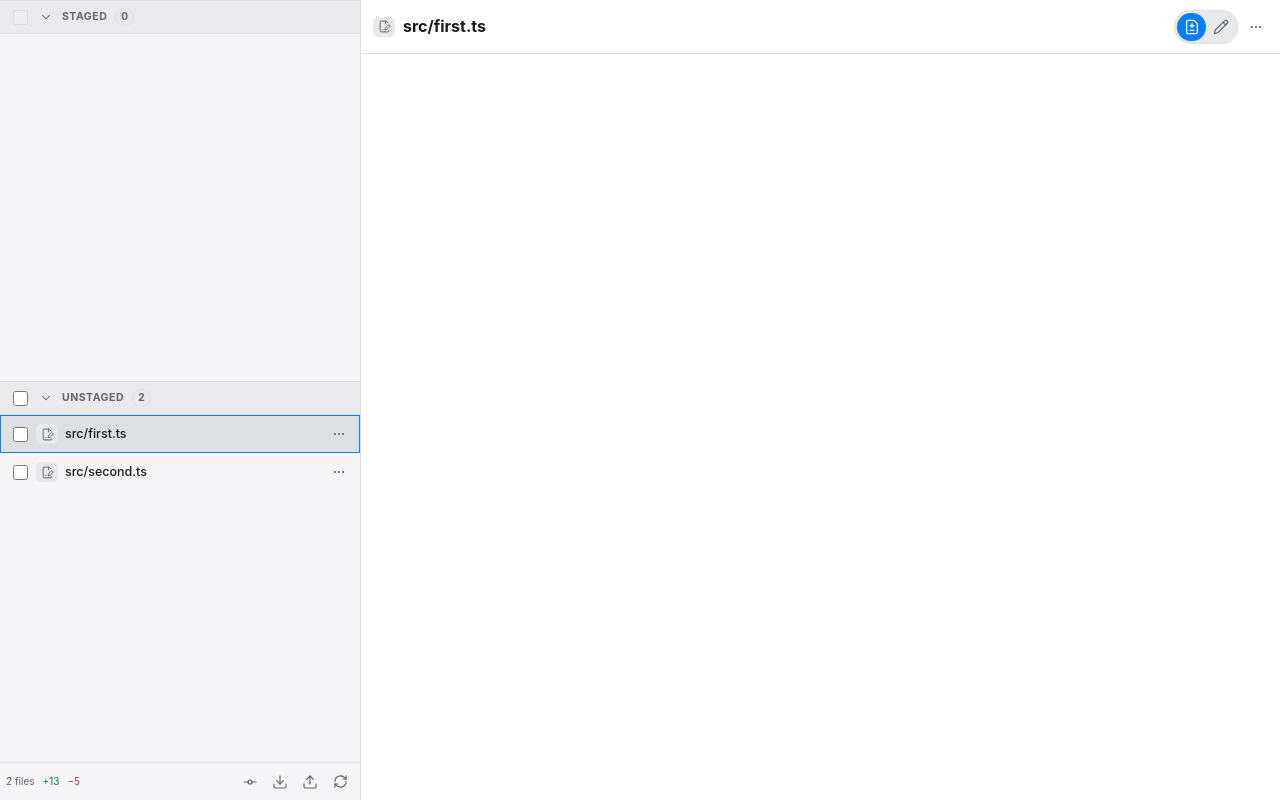
DiffView diff lifecycle › keeps the change summary below every file list format and shows the selection count
Check: the text "+13" is shown, box x1=43 y1=774 x2=60 y2=789
Check: the text "−5" is shown, box x1=68 y1=774 x2=80 y2=789
Click the button with aria-label "Modified src/second.ts" at (106, 471), box x1=34 y1=453 x2=326 y2=491
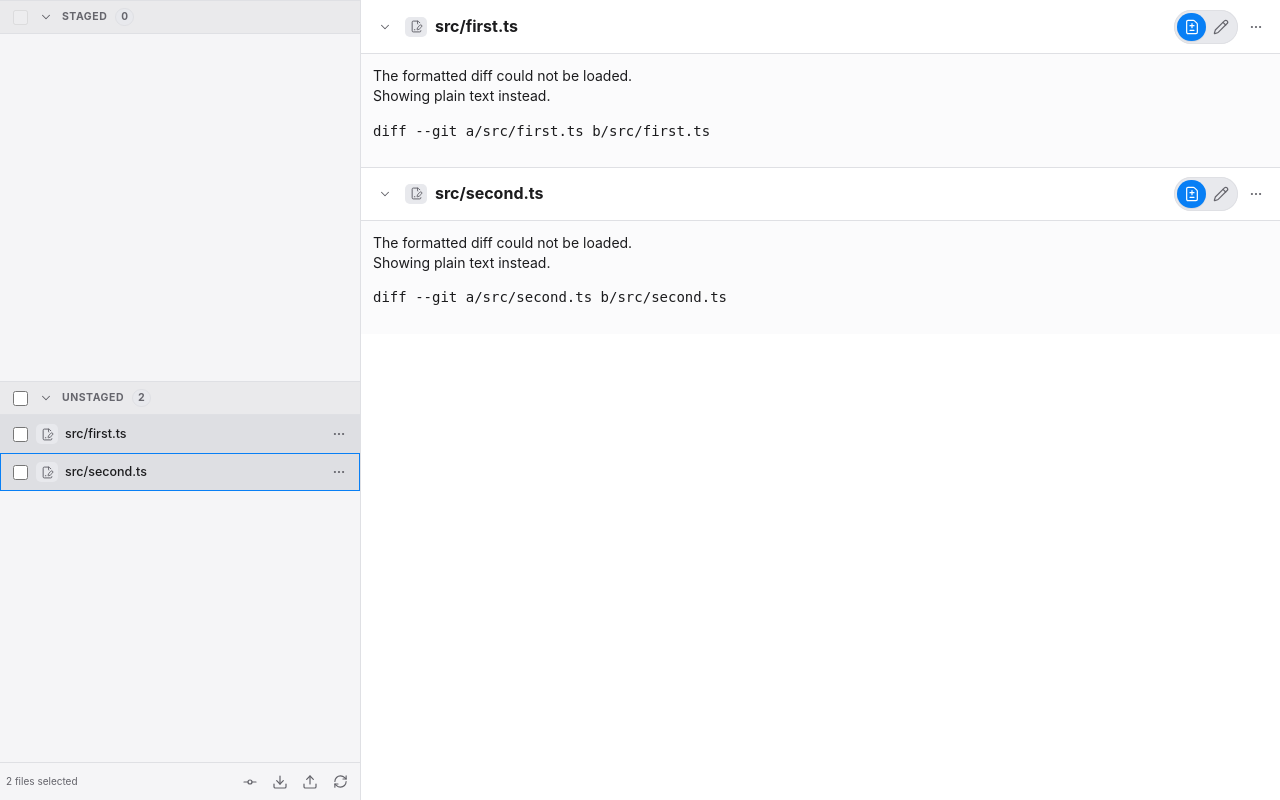
Check: the text "2 files selected" is shown, box x1=6 y1=774 x2=78 y2=789
